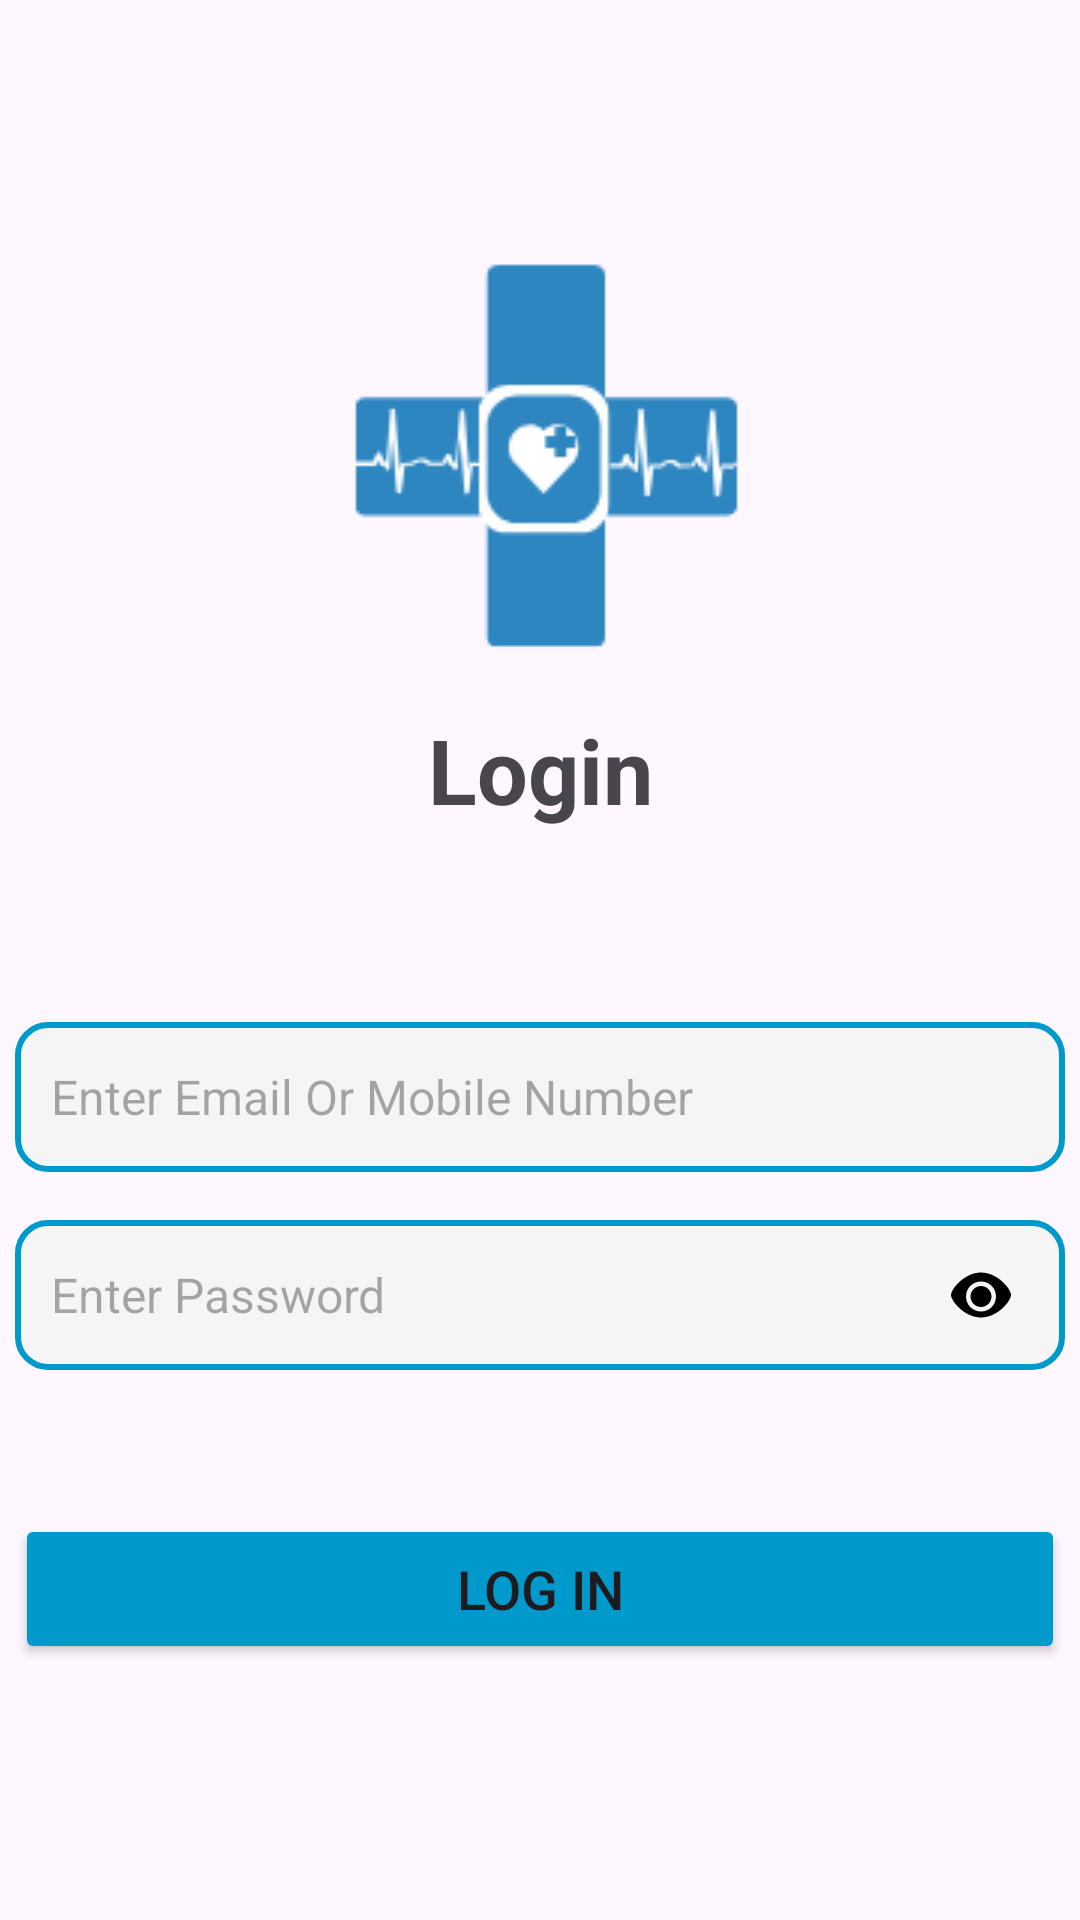

Where to tap for icons on this 1080x1920 app screen, as (x,y):
eye: (981,1295)
